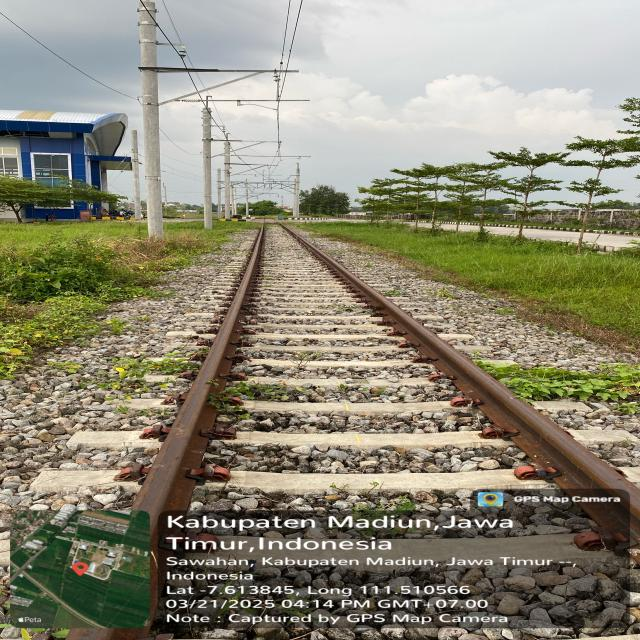rail-detection: (282, 226, 640, 540), (132, 230, 264, 552)
